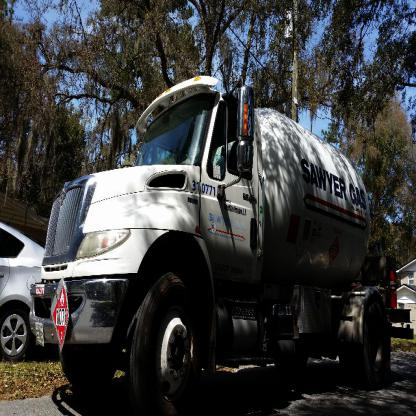Car: (0, 212, 53, 366)
Truck: (62, 88, 376, 396)
